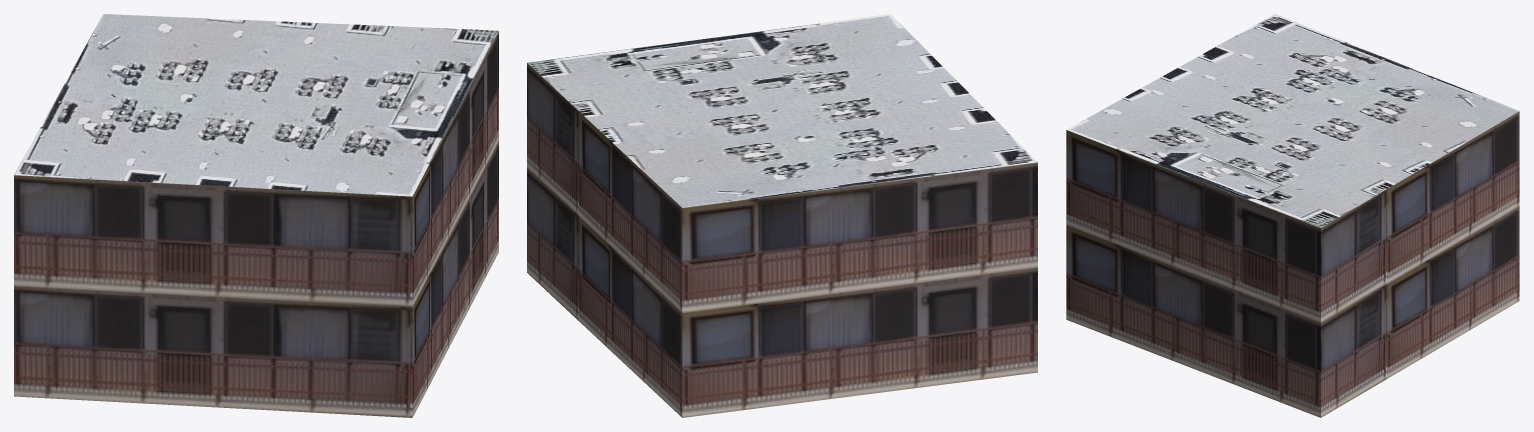
File: ResTex__313.fbx
The picture shows the model from 3 angles, left to right: view 1: azimuth 30°, elevation 25°; view 2: azimuth 150°, elevation 25°; view 3: azimuth 270°, elevation 25°; orthographic projection. The views are drawn at different scales.
Parts seen in each view (by area): view 1: CityEngineMaterial_6_m, CityEngineMaterial_8_m; view 2: CityEngineMaterial_6_m, CityEngineMaterial_8_m; view 3: CityEngineMaterial_6_m, CityEngineMaterial_8_m.
Boxes of the visible parts, bbox=[...] form: CityEngineMaterial_6_m: bbox=[14, 31, 498, 417]; CityEngineMaterial_8_m: bbox=[14, 14, 498, 196]; CityEngineMaterial_6_m: bbox=[527, 63, 1037, 417]; CityEngineMaterial_8_m: bbox=[527, 14, 1037, 207]; CityEngineMaterial_6_m: bbox=[1066, 111, 1519, 417]; CityEngineMaterial_8_m: bbox=[1066, 14, 1519, 227].
Size of the model in its own units: 14.51 by 6 by 12.99.
Materials: 2 (2 with a texture image).
